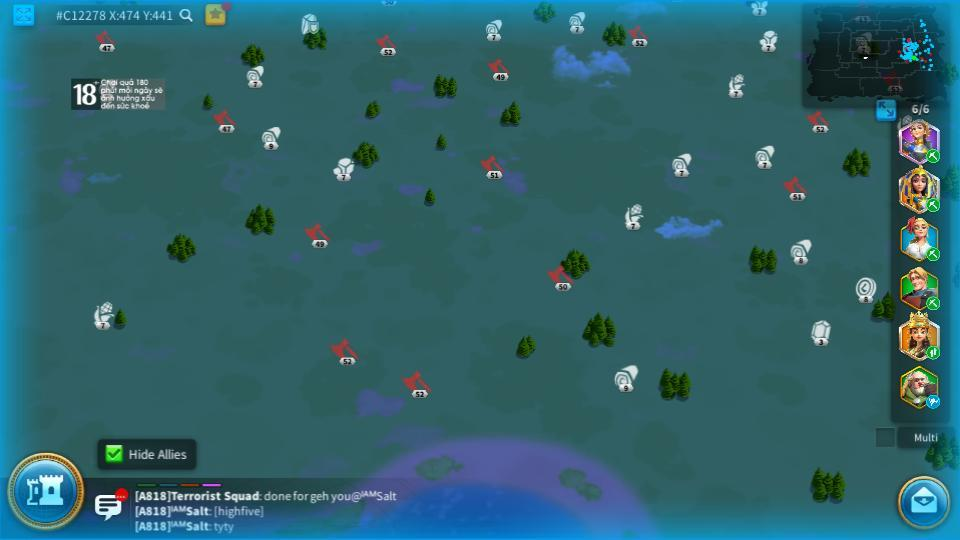gem-z-out: (810, 319, 833, 345)
march_farming: (925, 197, 941, 212), (925, 149, 941, 162)
march_idle: (925, 396, 942, 408)
march_marching: (925, 347, 941, 359)
